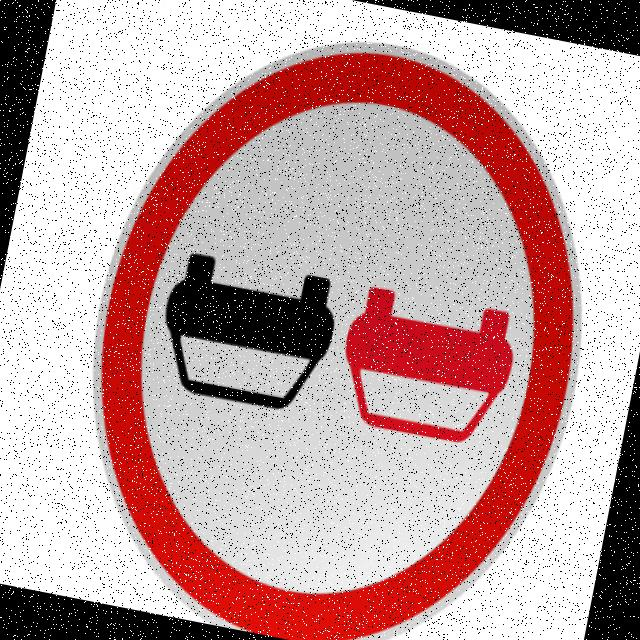no_passing: (39, 0, 640, 640)
